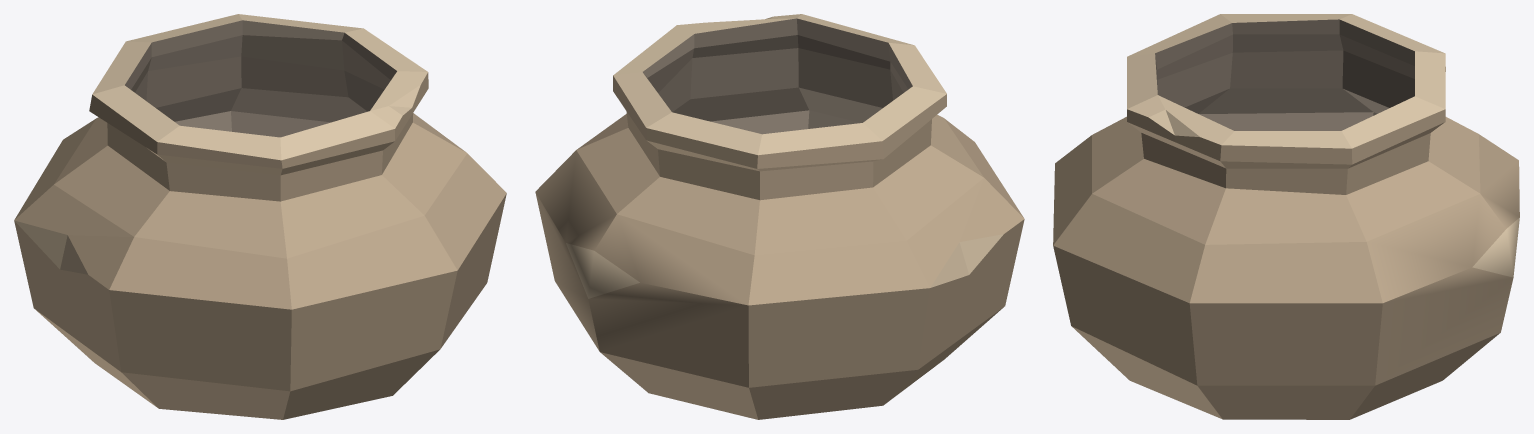
File: SM_Prop_Pot_09.fbx
3 views of the same model, side by side, from view 1: azimuth 30°, elevation 25°; view 2: azimuth 150°, elevation 25°; view 3: azimuth 270°, elevation 25° (orthographic). The views are drawn at different scales.
Visible parts, largest first — view 1: SM_Prop_Pot_09; view 2: SM_Prop_Pot_09; view 3: SM_Prop_Pot_09.
Boxes of the visible parts, x1,y1,x2,y2 form: SM_Prop_Pot_09: (14, 14, 506, 419); SM_Prop_Pot_09: (535, 14, 1024, 419); SM_Prop_Pot_09: (1053, 14, 1519, 419).
Size of the model in its own units: 0.421 by 0.2801 by 0.4214.
Materials: 1 (1 with a texture image).
